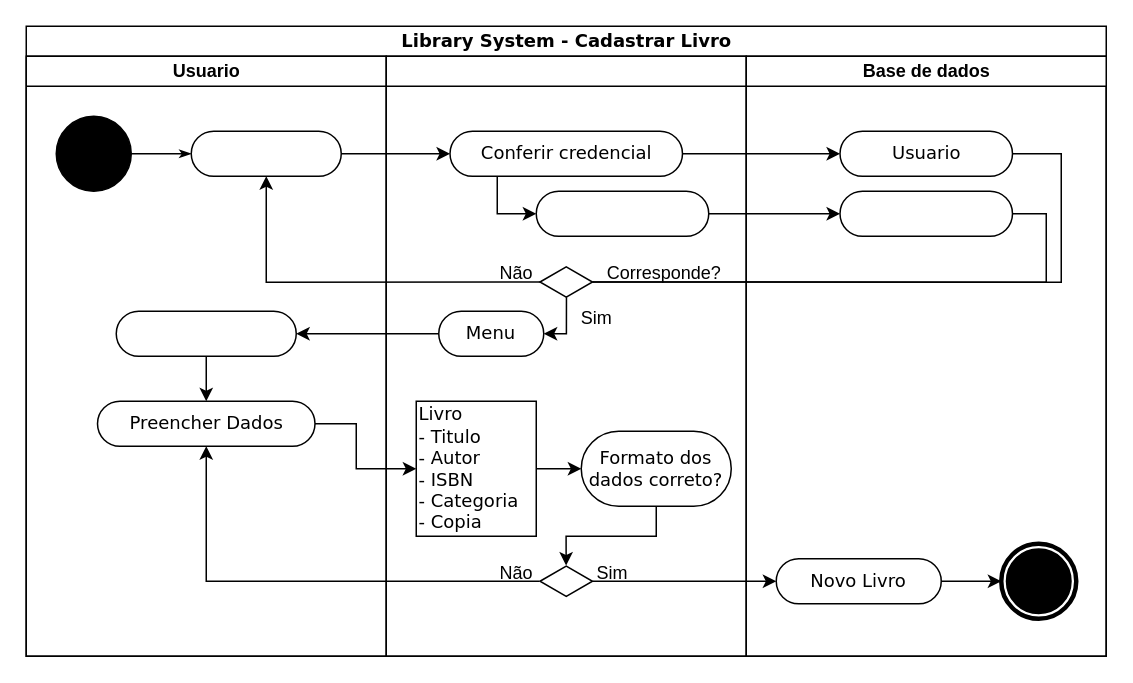
Some shapes in this 1133 by 683 pixel diagram are drawn without their labels. Each missing label, with the box of its shape:
Cadastrar Livro: (115, 310, 296, 356)
Criptografia: (535, 190, 709, 236)
Login: (190, 130, 341, 176)
Senha: (838, 190, 1012, 236)
Sistema: (385, 55, 746, 656)
